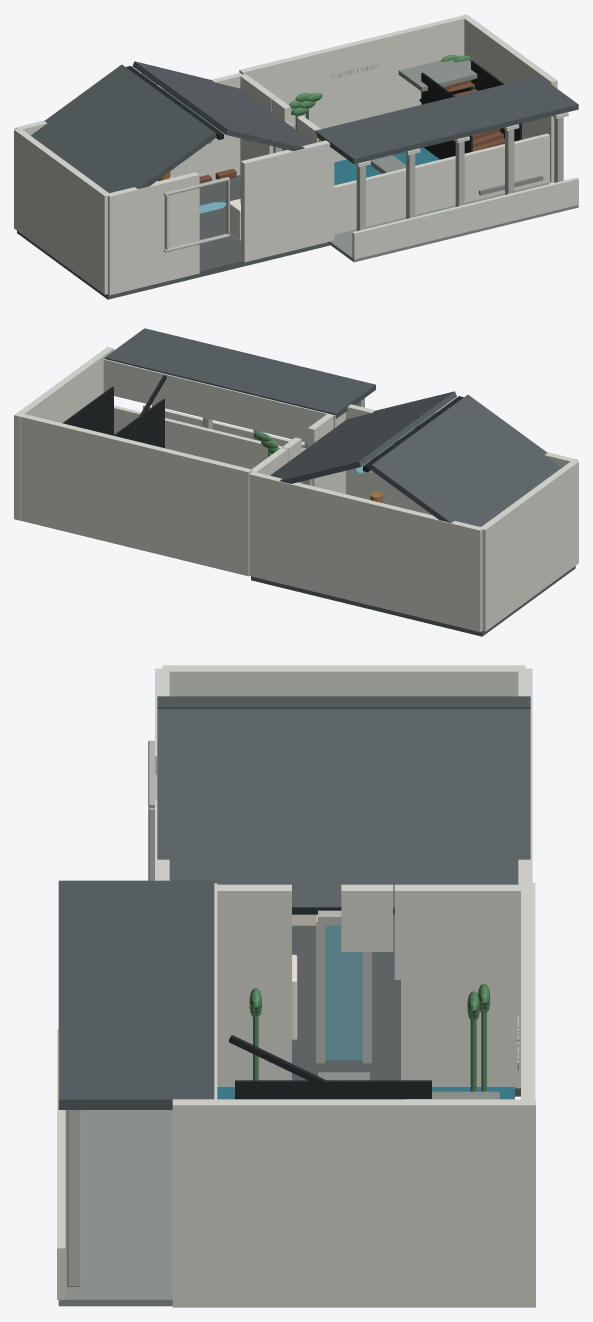
The model's file is suzhou_museum_new.glb.
3 renders of one model, top to bottom at view 1: azimuth 30°, elevation 25°; view 2: azimuth 150°, elevation 25°; view 3: azimuth 270°, elevation 25°, orthographic. The views are drawn at different scales.
Parts seen in each view (by area): view 1: gallery_roof_slope_west, courtyard_wall_north, cloister_roof, gallery_wall_west, gallery_wall_south_right, gallery_wall_south_left, courtyard_wall_south_low, cloister_front_low_parapet, gallery_roof_slope_east, gallery_floor, courtyard_wall_east, gallery_wall_north (+14 smaller); view 2: courtyard_wall_north, gallery_wall_north, gallery_roof_slope_west, gallery_wall_west, cloister_roof, cloister_back_beam, gallery_roof_slope_east, courtyard_wall_east, courtyard_wall_south_low, gallery_wall_south_right, gallery_floor, stair_rail_post_9.2 (+5 smaller); view 3: courtyard_wall_east, gallery_roof_slope_east, cloister_roof, gallery_wall_east_high, cloister_floor, gallery_wall_east_low, gallery_wall_west, gallery_floor, gallery_glass_door, gallery_roof_slope_west, stair_rail_post_7, gallery_wall_east_door_head (+9 smaller).
Part boxes in pixels (x1=…): gallery_roof_slope_west: x1=31, y1=64, x2=216, y2=193; courtyard_wall_north: x1=239, y1=15, x2=466, y2=128; cloister_roof: x1=315, y1=76, x2=578, y2=164; gallery_wall_west: x1=14, y1=128, x2=110, y2=294; gallery_wall_south_right: x1=241, y1=140, x2=334, y2=262; gallery_wall_south_left: x1=108, y1=172, x2=199, y2=295; courtyard_wall_south_low: x1=334, y1=133, x2=549, y2=234; cloister_front_low_parapet: x1=352, y1=177, x2=578, y2=259; gallery_roof_slope_east: x1=132, y1=61, x2=313, y2=151; gallery_floor: x1=17, y1=175, x2=329, y2=299; courtyard_wall_east: x1=462, y1=14, x2=557, y2=183; gallery_wall_north: x1=15, y1=73, x2=241, y2=180; courtyard_wall_north: x1=18, y1=413, x2=252, y2=576; gallery_wall_north: x1=249, y1=472, x2=482, y2=632; gallery_roof_slope_west: x1=370, y1=394, x2=561, y2=526; gallery_wall_west: x1=479, y1=460, x2=578, y2=631; cloister_roof: x1=104, y1=328, x2=375, y2=418; cloister_back_beam: x1=103, y1=359, x2=337, y2=442; gallery_roof_slope_east: x1=270, y1=391, x2=456, y2=483; courtyard_wall_east: x1=14, y1=347, x2=113, y2=520; courtyard_wall_south_low: x1=114, y1=405, x2=282, y2=469; gallery_wall_south_right: x1=346, y1=404, x2=432, y2=515; gallery_floor: x1=251, y1=566, x2=575, y2=636; stair_rail_post_9.2: x1=62, y1=386, x2=113, y2=435; courtyard_wall_east: x1=172, y1=1099, x2=535, y2=1307; gallery_roof_slope_east: x1=157, y1=708, x2=530, y2=914; cloister_roof: x1=58, y1=880, x2=214, y2=1109; gallery_wall_east_high: x1=401, y1=884, x2=520, y2=1088; cloister_floor: x1=58, y1=1110, x2=172, y2=1306; gallery_wall_east_low: x1=214, y1=884, x2=291, y2=1086; gallery_wall_west: x1=162, y1=665, x2=525, y2=696; gallery_floor: x1=292, y1=914, x2=520, y2=1096; gallery_glass_door: x1=325, y1=925, x2=362, y2=1060; gallery_roof_slope_west: x1=157, y1=696, x2=530, y2=707; stair_rail_post_7: x1=235, y1=1080, x2=431, y2=1099; gallery_wall_east_door_head: x1=341, y1=884, x2=393, y2=951.
Size of the model in its own units: 20.28 by 6.05 by 9.23.
